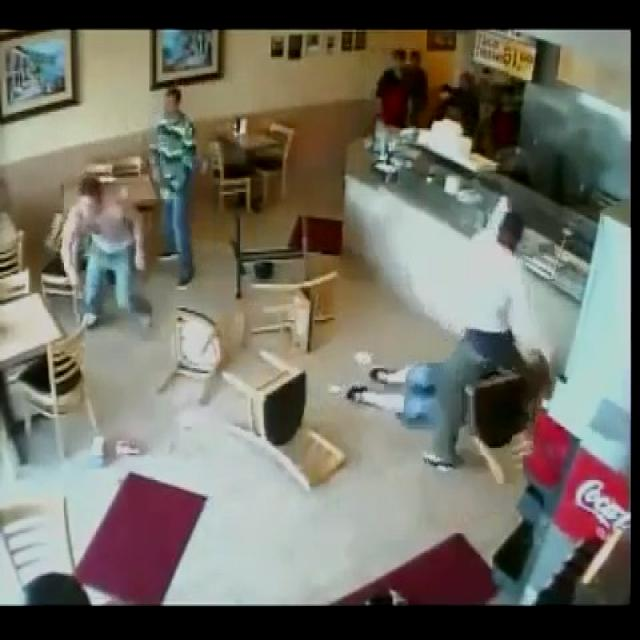fight: (345, 207, 538, 481)
